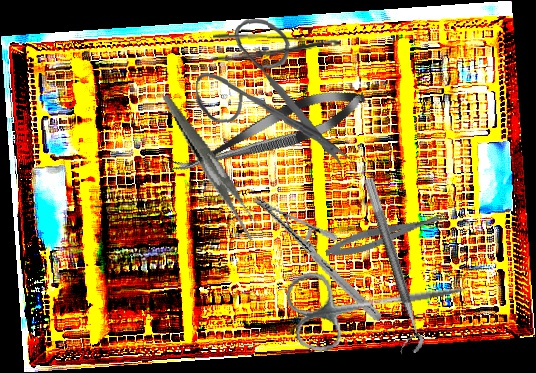Dressing Forceps: (162, 80, 266, 253), (211, 31, 341, 68)
Fixation Ring: (349, 177, 427, 357)
Iris Scissors: (192, 14, 359, 172), (283, 246, 473, 356)
Micro Scissor: (166, 77, 372, 189), (322, 206, 453, 263)
Needle Holder: (232, 195, 403, 322)
